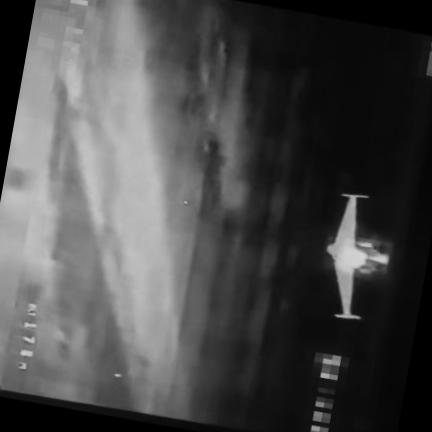Shahed: (325, 193, 388, 319)
